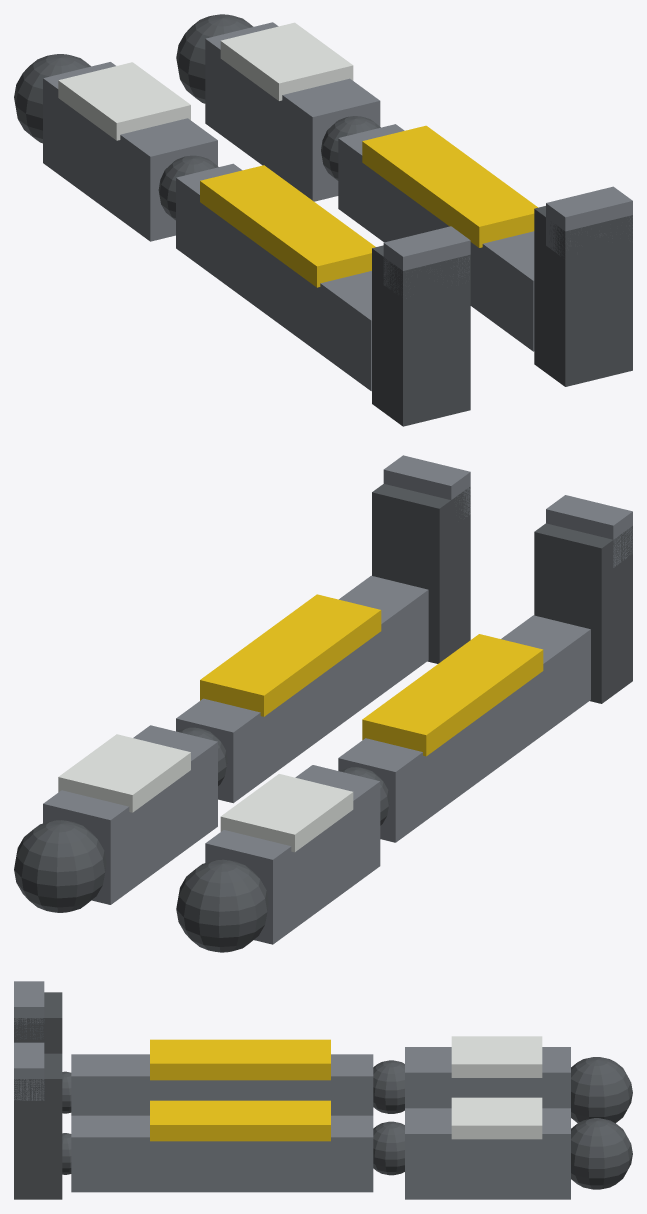
Rendered from legs-scout.glb.
The picture shows the model from 3 angles, top to bottom: view 1: azimuth 30°, elevation 25°; view 2: azimuth 150°, elevation 25°; view 3: azimuth 270°, elevation 25°; orthographic projection. The views are drawn at different scales.
Parts seen in each view (by area): view 1: foot_-1, foot_1, shin_-1, thigh_-1, thigh_1, shin_1, shinguard_-1, shinguard_1, thighplate_1, thighplate_-1, toe_1, toe_-1 (+4 smaller); view 2: shin_-1, shin_1, thigh_-1, thigh_1, foot_1, foot_-1, shinguard_1, shinguard_-1, hip_1, hip_-1, thighplate_-1, thighplate_1 (+2 smaller); view 3: shin_1, thigh_1, shin_-1, shinguard_-1, shinguard_1, thigh_-1, foot_1, thighplate_1, thighplate_-1, hip_1, hip_-1, foot_-1 (+6 smaller).
Part boxes in pixels (left/top/right/bottom): foot_-1: left=372, top=245, right=470, bottom=426; foot_1: left=534, top=206, right=632, bottom=386; shin_-1: left=176, top=163, right=371, bottom=391; thigh_-1: left=43, top=62, right=217, bottom=241; thigh_1: left=205, top=22, right=380, bottom=201; shin_1: left=338, top=124, right=534, bottom=351; shinguard_-1: left=200, top=165, right=375, bottom=287; shinguard_1: left=362, top=125, right=537, bottom=247; thighplate_1: left=220, top=22, right=353, bottom=100; thighplate_-1: left=58, top=62, right=190, bottom=140; toe_1: left=546, top=186, right=632, bottom=256; toe_-1: left=383, top=226, right=470, bottom=298; shin_-1: left=338, top=615, right=590, bottom=842; shin_1: left=176, top=575, right=428, bottom=803; thigh_-1: left=205, top=765, right=380, bottom=944; thigh_1: left=43, top=725, right=217, bottom=904; foot_1: left=372, top=484, right=470, bottom=663; foot_-1: left=534, top=523, right=632, bottom=703; shinguard_1: left=200, top=594, right=381, bottom=716; shinguard_-1: left=362, top=634, right=543, bottom=756; hip_1: left=14, top=820, right=106, bottom=912; hip_-1: left=176, top=859, right=268, bottom=952; thighplate_-1: left=220, top=774, right=353, bottom=852; thighplate_1: left=58, top=734, right=190, bottom=812; shin_1: left=71, top=1115, right=373, bottom=1192; thigh_1: left=405, top=1108, right=570, bottom=1199; shin_-1: left=71, top=1054, right=373, bottom=1115; shinguard_-1: left=150, top=1039, right=330, bottom=1080; shinguard_1: left=150, top=1100, right=330, bottom=1141; thigh_-1: left=405, top=1047, right=570, bottom=1108; foot_1: left=14, top=1053, right=62, bottom=1199; thighplate_1: left=451, top=1097, right=542, bottom=1139; thighplate_-1: left=451, top=1036, right=542, bottom=1077; hip_1: left=571, top=1118, right=632, bottom=1189; hip_-1: left=571, top=1057, right=632, bottom=1123; foot_-1: left=14, top=992, right=62, bottom=1053.
Size of the model in its own units: 0.714 by 0.48 by 2.05.
